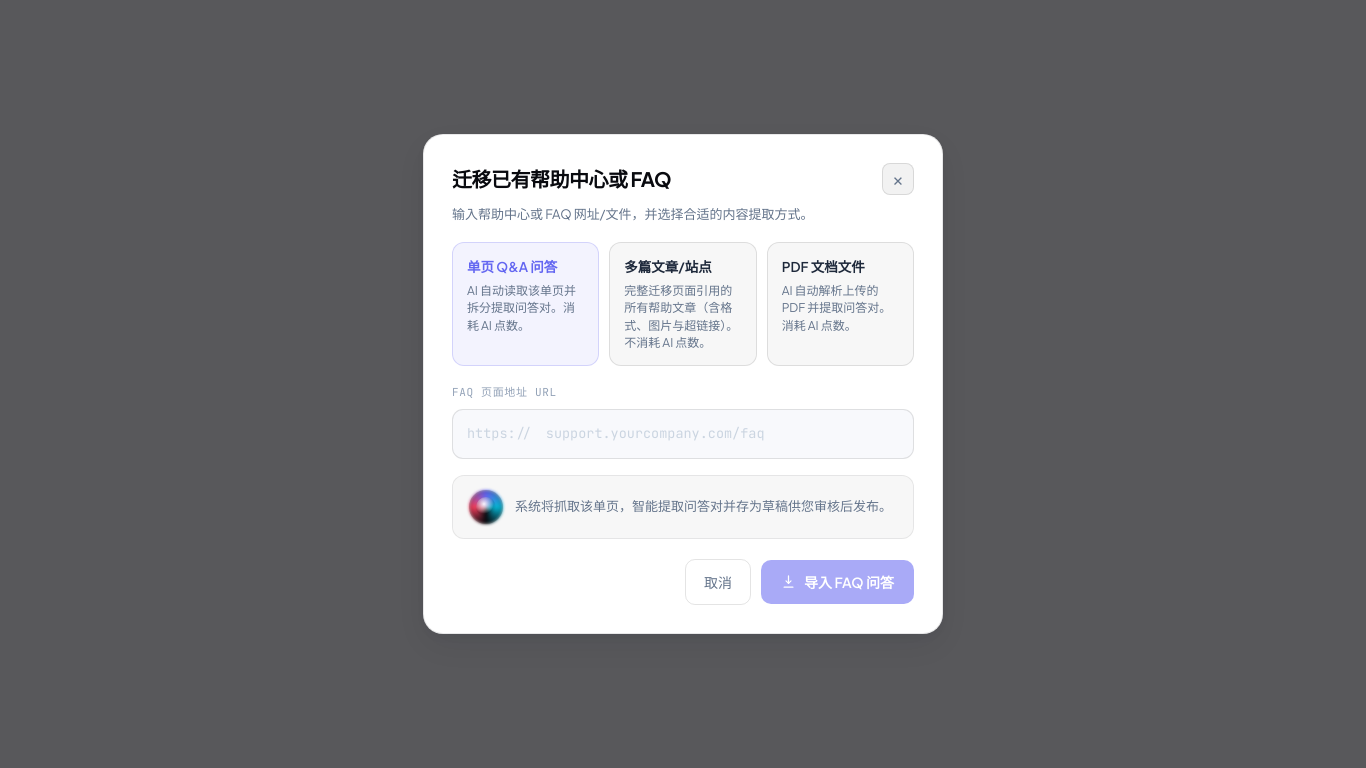
Test case: FaqImportModal › resets the choice when the mode changes, so it cannot go stale
Click the radio button labelled "多篇文章/站点 完整迁移页面引用的所有帮助文章（含格式、图片与超链接）。不消耗 AI 点数。". click: point(683, 304)
box: [609,242,757,366]
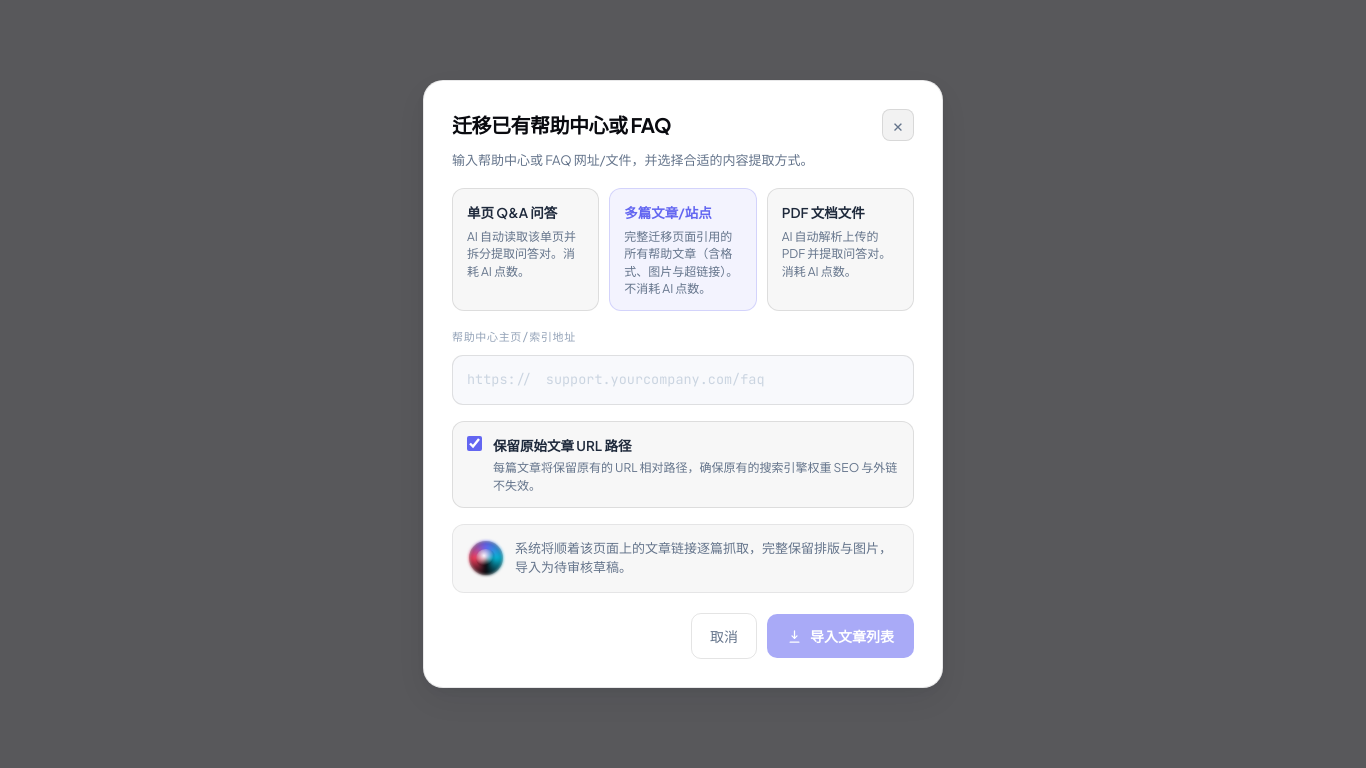
Click the checkbox labelled "保留原始文章 URL 路径 每篇文章将保留原有的 URL 相对路径，确保原有的搜索引擎权重 SEO 与外链不失效。". click: point(474, 443)
box: [467,436,482,450]
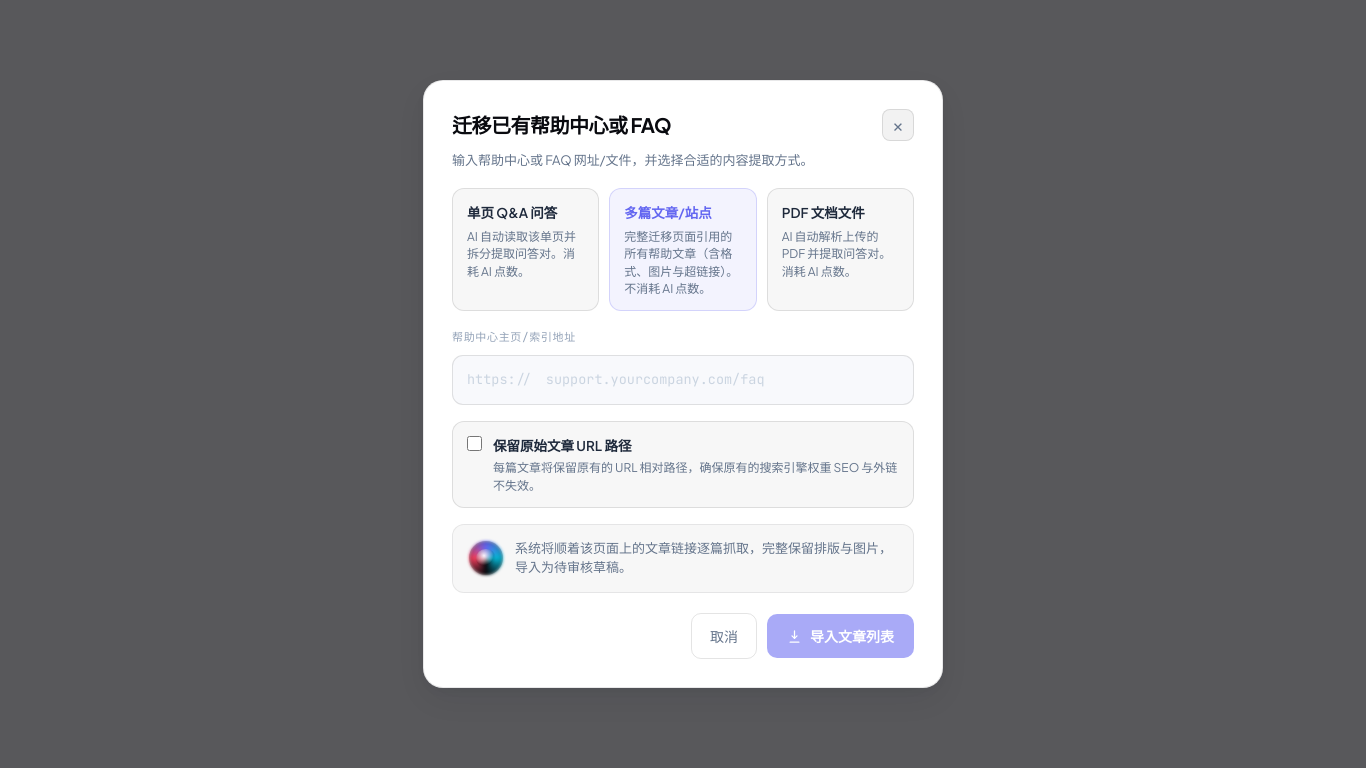
Click the radio button labelled "单页 Q&A 问答 AI 自动读取该单页并拆分提取问答对。消耗 AI 点数。". click: point(526, 250)
box: [452,188,599,311]
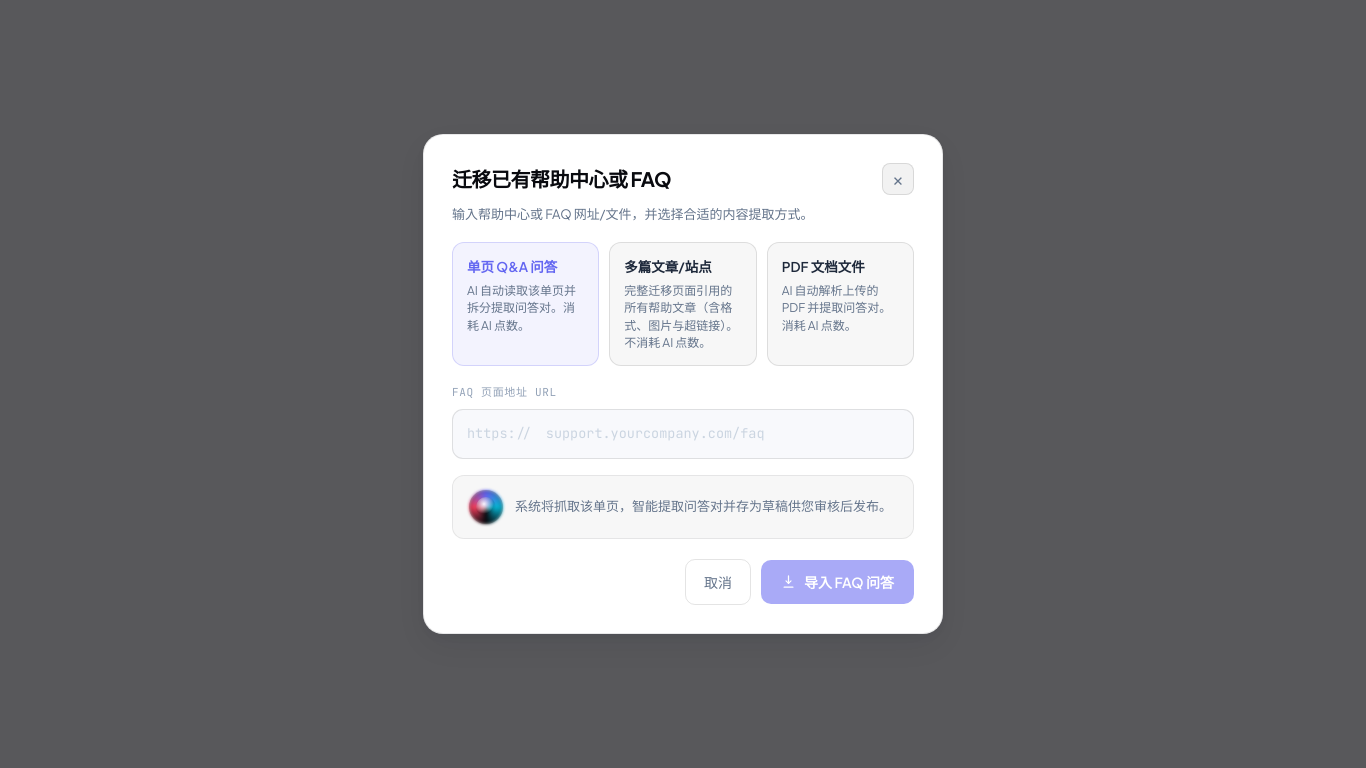
Click the radio button labelled "多篇文章/站点 完整迁移页面引用的所有帮助文章（含格式、图片与超链接）。不消耗 AI 点数。". click: point(683, 304)
box: [609,242,757,366]
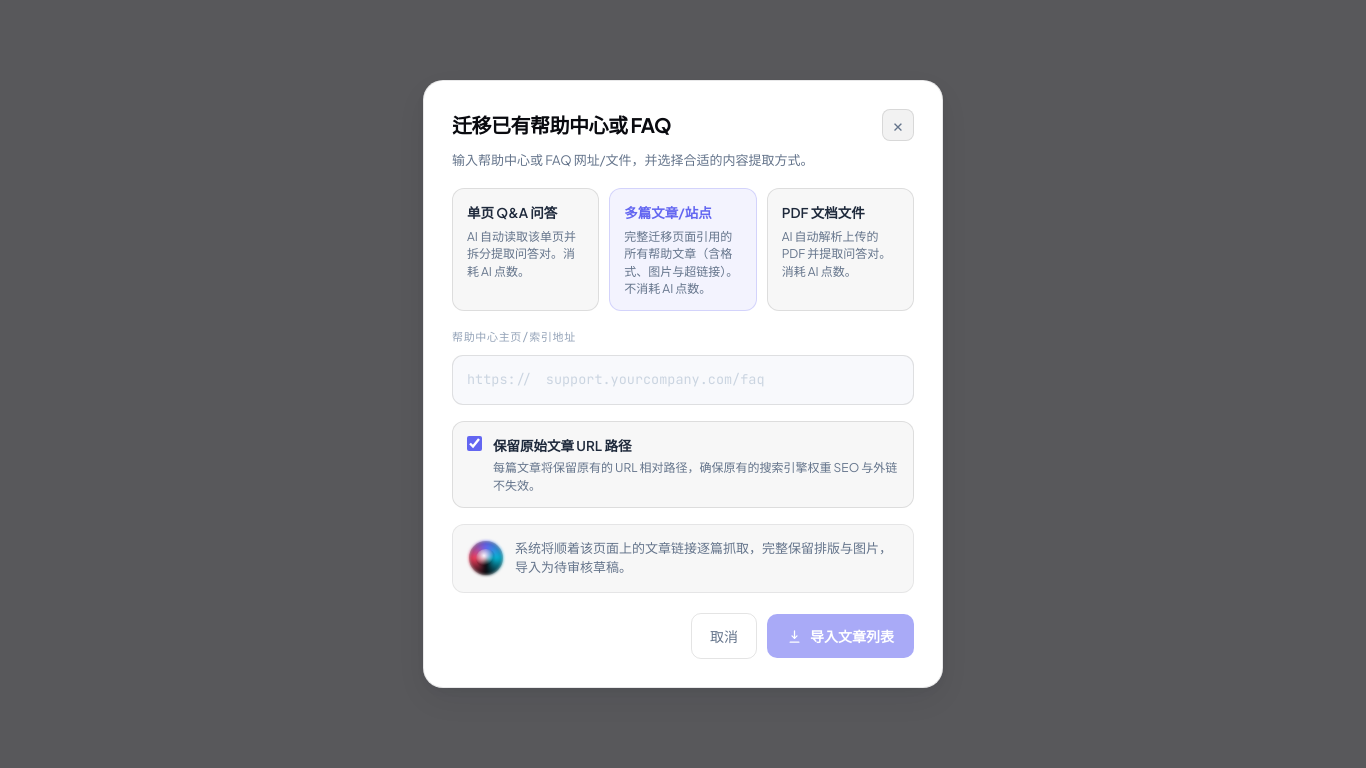
expect the checkbox labelled "保留原始文章 URL 路径 每篇文章将保留原有的 URL 相对路径，确保原有的搜索引擎权重 SEO 与外链不失效。" is checked: met, box [467,436,482,450]
